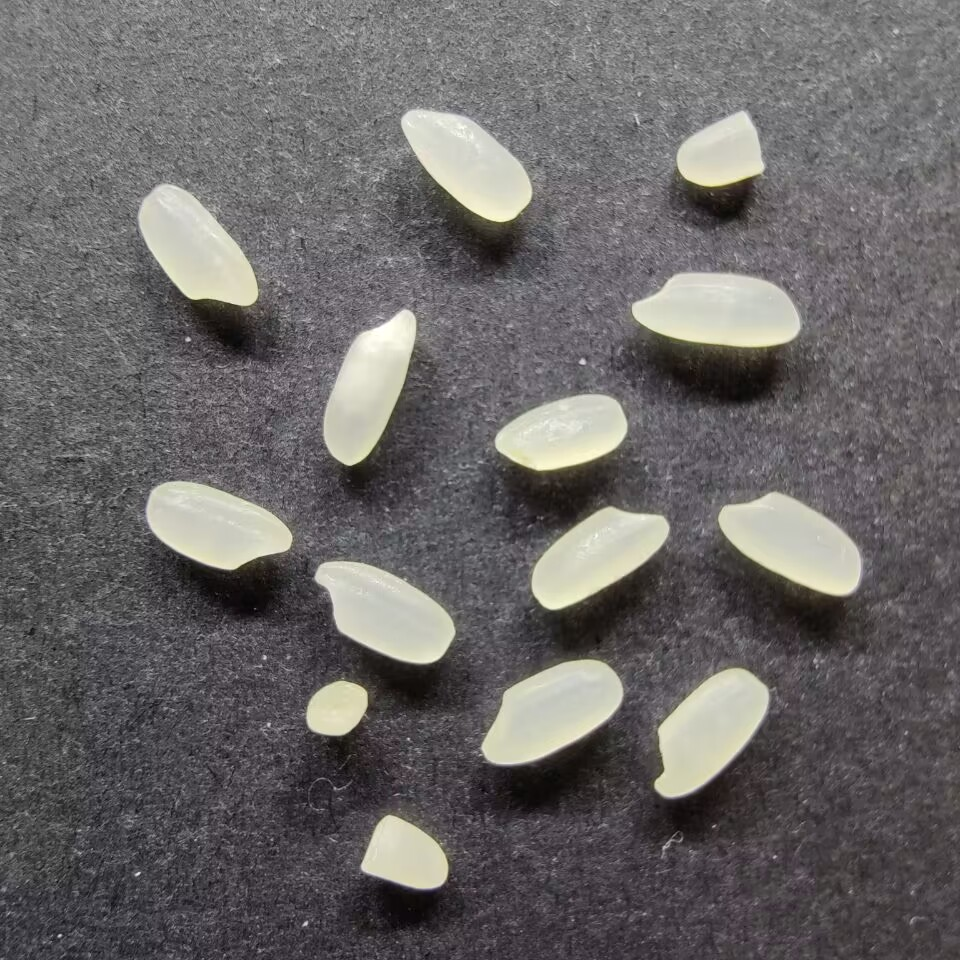broken: (675, 109, 766, 187), (358, 813, 447, 890), (305, 680, 368, 736)
rice: (652, 667, 772, 798), (479, 659, 623, 766), (399, 109, 533, 223), (321, 307, 417, 466), (717, 491, 862, 596), (137, 183, 259, 307), (313, 559, 455, 664), (530, 505, 671, 610), (145, 480, 292, 572), (631, 271, 802, 348), (493, 393, 627, 472)
